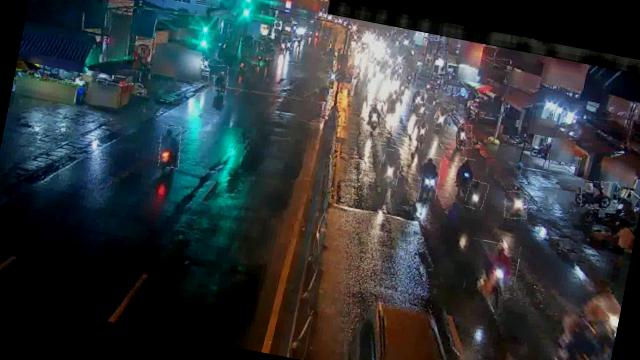Bike: (464, 238, 522, 297), (578, 177, 620, 212), (416, 156, 444, 206), (156, 124, 183, 168), (378, 148, 403, 190), (502, 189, 530, 221), (464, 178, 488, 209), (364, 102, 388, 133), (452, 156, 477, 185), (410, 119, 430, 150), (211, 64, 230, 94), (455, 124, 475, 150), (434, 106, 451, 130), (387, 85, 402, 108), (416, 101, 430, 120), (411, 90, 426, 107)
